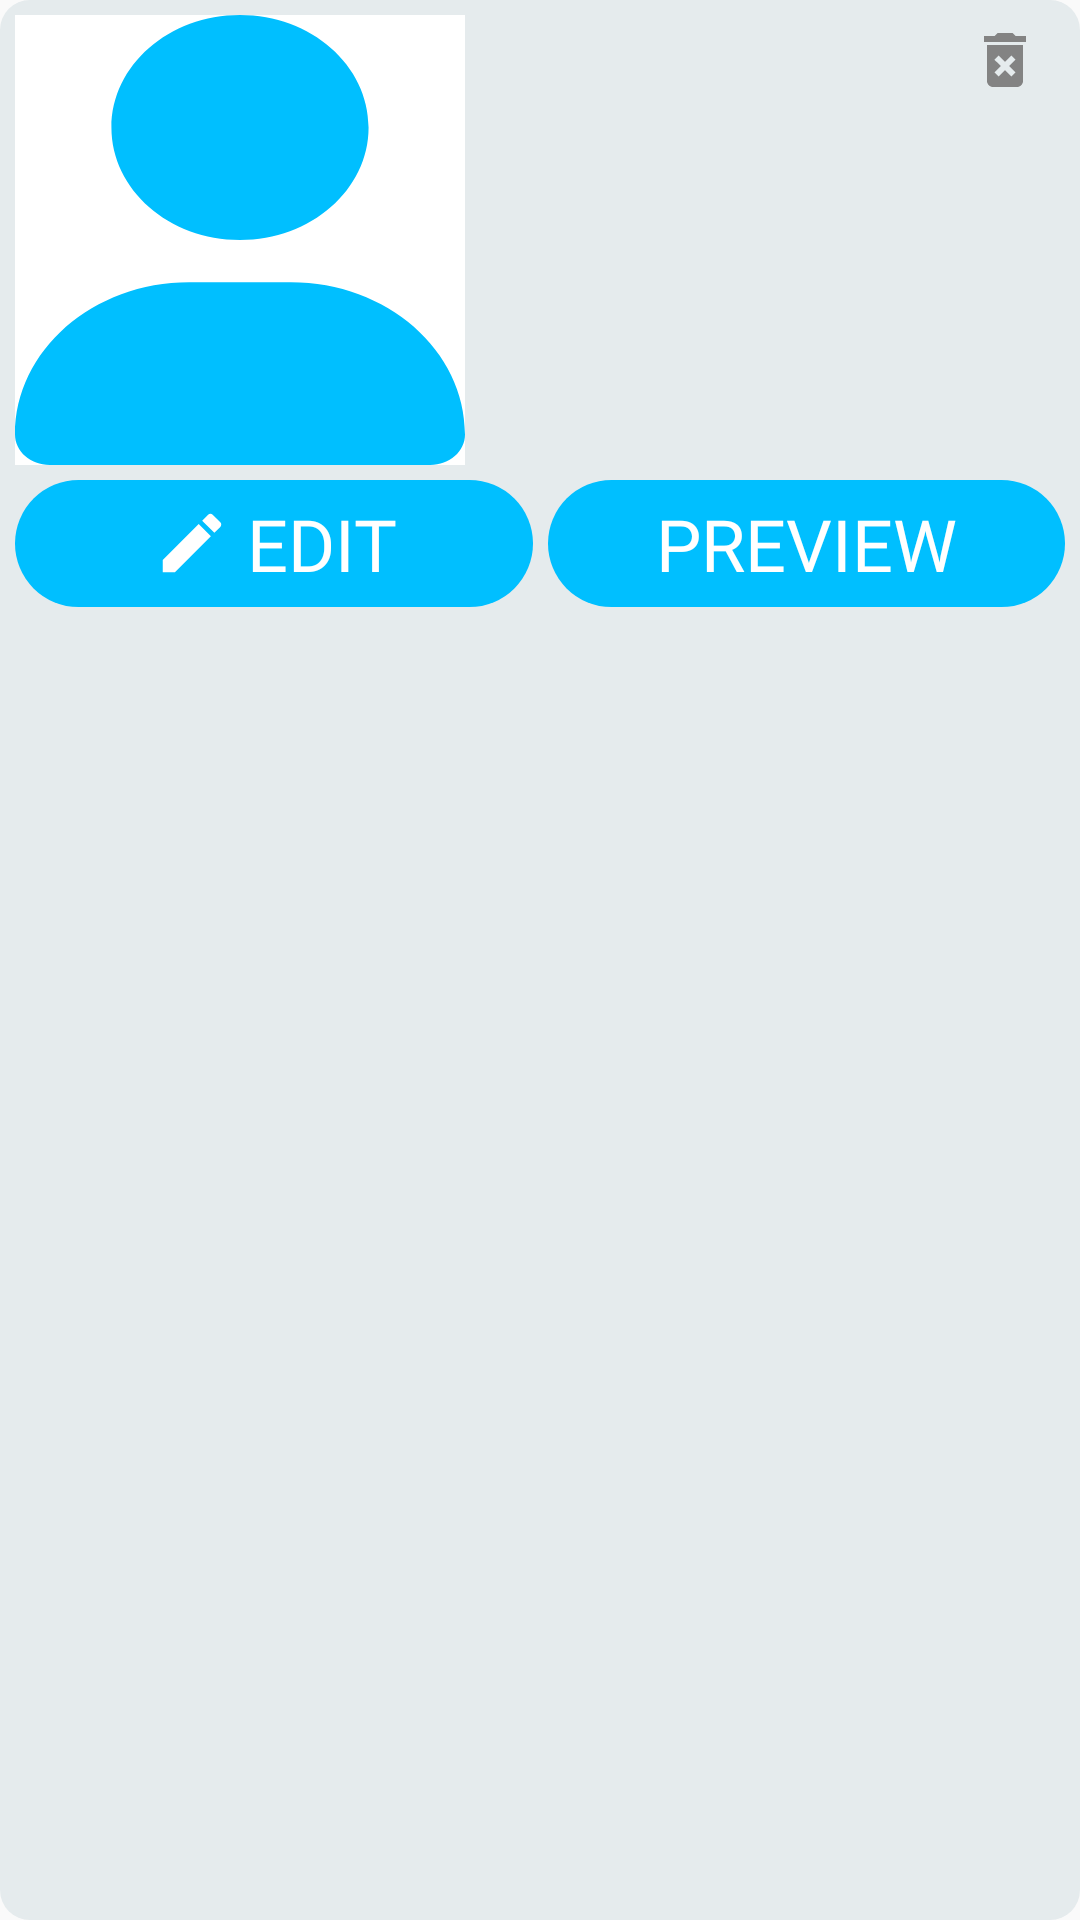

Icon bounding boxes for this 1080*1920 phone screenshot, format (x1, y1, x2, y2):
delete: (984, 33, 1026, 87)
